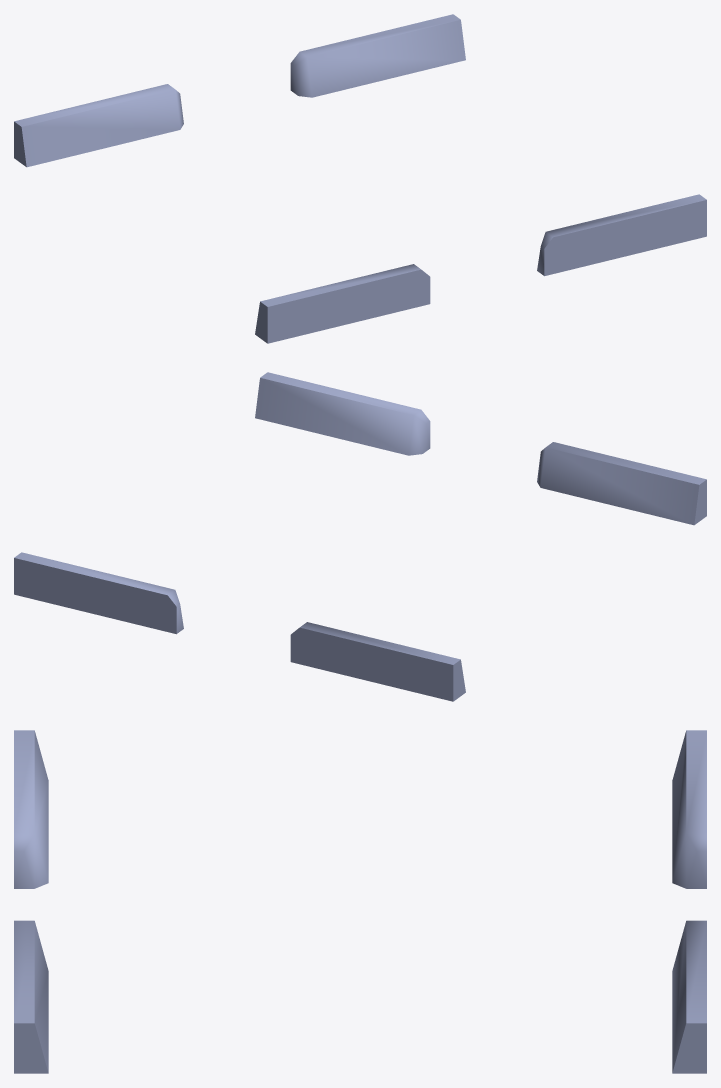
Rendered from road-driveway-double-barrier.glb.
The picture shows the model from 3 angles, top to bottom: view 1: azimuth 30°, elevation 25°; view 2: azimuth 150°, elevation 25°; view 3: azimuth 270°, elevation 25°; orthographic projection. The views are drawn at different scales.
Visible parts, largest first — view 1: road-driveway-double-barrier; view 2: road-driveway-double-barrier; view 3: road-driveway-double-barrier.
Boxes of the visible parts, box(x1,y1,x2,y2) form: road-driveway-double-barrier: box(14, 14, 706, 343); road-driveway-double-barrier: box(14, 372, 706, 701); road-driveway-double-barrier: box(14, 730, 706, 1073).
Size of the model in its own units: 10 by 0.7996 by 10.
1 material, 1 textured.
